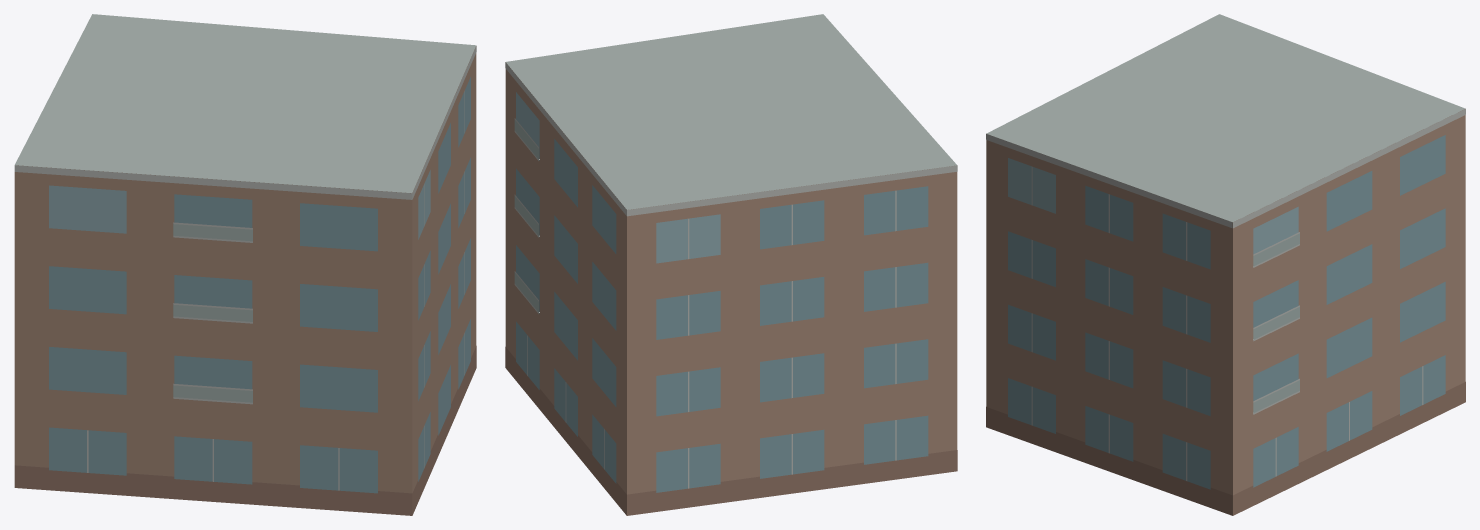
The model's file is survey-upis-32523387.glb.
3 views of the same model, side by side, from view 1: azimuth 30°, elevation 25°; view 2: azimuth 150°, elevation 25°; view 3: azimuth 270°, elevation 25° (orthographic). The views are drawn at different scales.
Parts seen in each view (by area): view 1: survey-upis-32523387.tmp; view 2: survey-upis-32523387.tmp; view 3: survey-upis-32523387.tmp.
Part boxes in pixels (box(x1,y1,x2,y2)): survey-upis-32523387.tmp: box(14, 14, 476, 515); survey-upis-32523387.tmp: box(505, 14, 957, 515); survey-upis-32523387.tmp: box(986, 14, 1465, 515).
Size of the model in its own units: 17.82 by 11.7 by 17.33.
